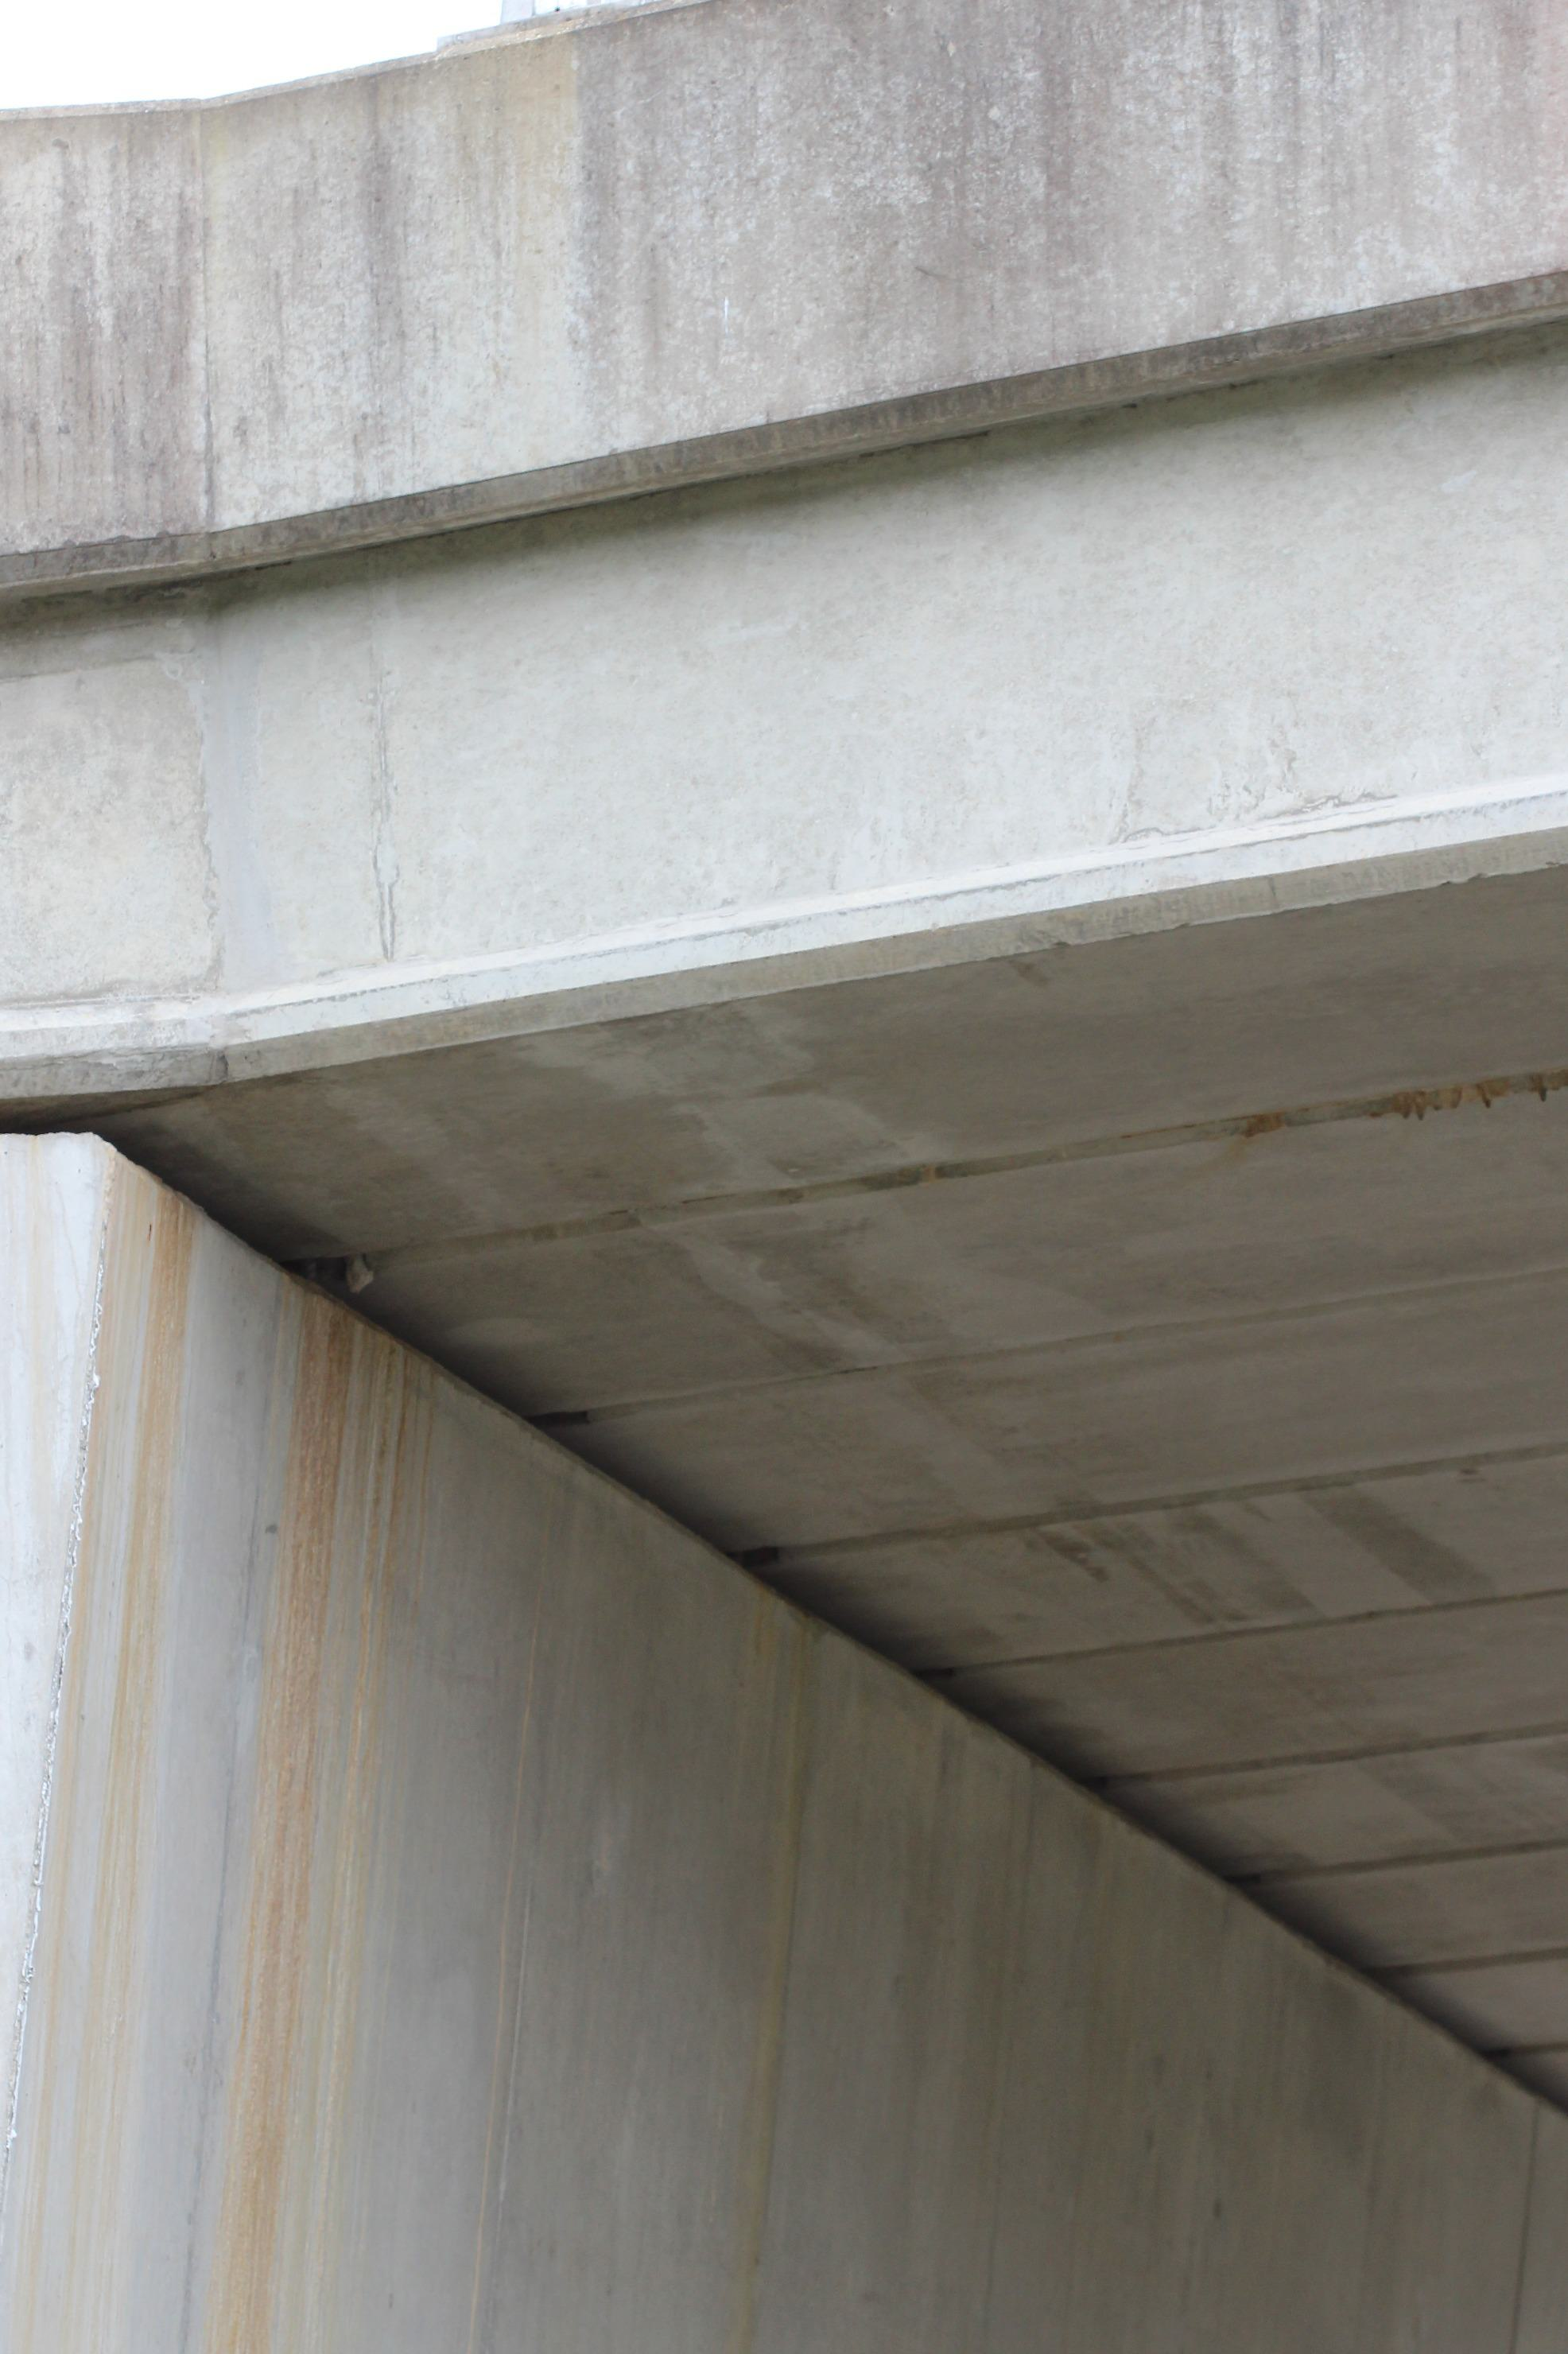Corrosion: (213, 1272, 432, 2354), (12, 1146, 203, 2354)
Spalling: (0, 1146, 117, 2214)
